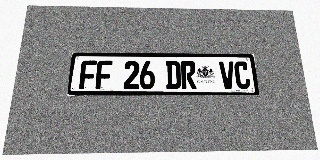2: (124, 61, 139, 89)
6: (140, 61, 155, 89)
C: (234, 61, 251, 89)
D: (166, 61, 181, 89)
F: (79, 60, 97, 89), (95, 60, 112, 89)
R: (181, 61, 197, 89)
V: (219, 61, 236, 89)
